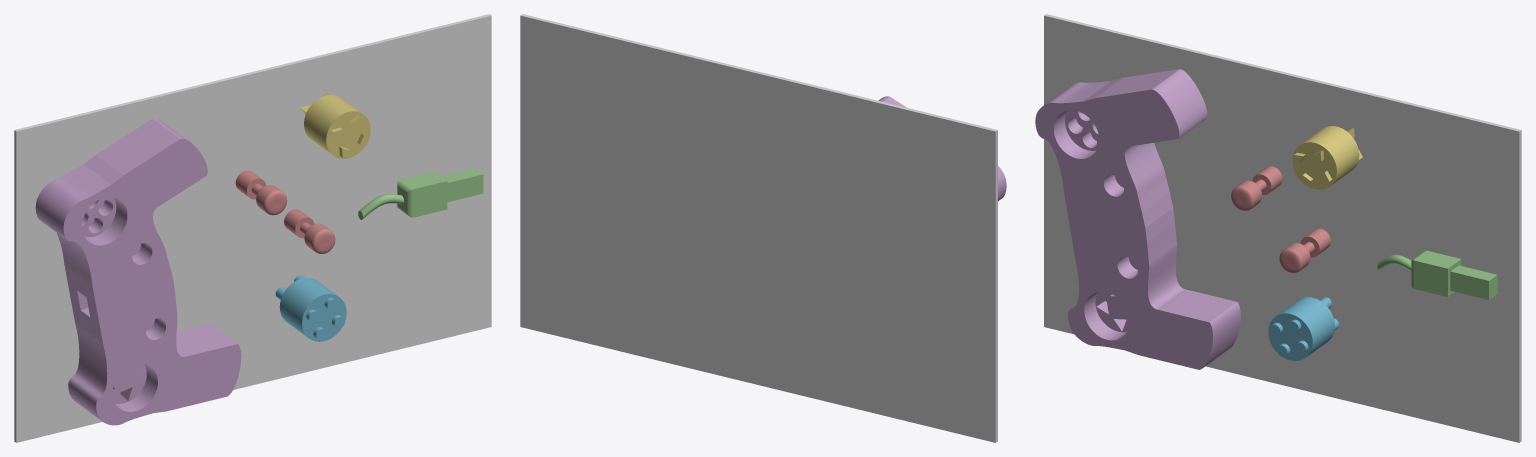
File: pickup_layout.glb
3 renders of one model, left to right at view 1: azimuth 30°, elevation 25°; view 2: azimuth 150°, elevation 25°; view 3: azimuth 330°, elevation 25°, orthographic.
Parts seen in each view (by area): view 1: world, 3.obj, 4.obj, 2.obj, 1.obj, 5.obj, 0.obj; view 2: world; view 3: world, 3.obj, 4.obj, 2.obj, 1.obj, 0.obj, 5.obj.
Part boxes in pixels (x1,y1,x2,y2): world: [14, 14, 491, 442]; 3.obj: [35, 118, 241, 425]; 4.obj: [358, 168, 483, 219]; 2.obj: [275, 275, 346, 341]; 1.obj: [300, 92, 370, 158]; 5.obj: [235, 170, 287, 215]; 0.obj: [284, 209, 335, 253]; world: [520, 14, 997, 442]; world: [1044, 14, 1521, 442]; 3.obj: [1035, 69, 1240, 369]; 4.obj: [1377, 250, 1497, 299]; 2.obj: [1268, 297, 1339, 361]; 1.obj: [1292, 126, 1362, 189]; 0.obj: [1279, 228, 1330, 273]; 5.obj: [1231, 166, 1282, 210].
Size of the model in its own units: 24.59 by 15.39 by 3.2.
